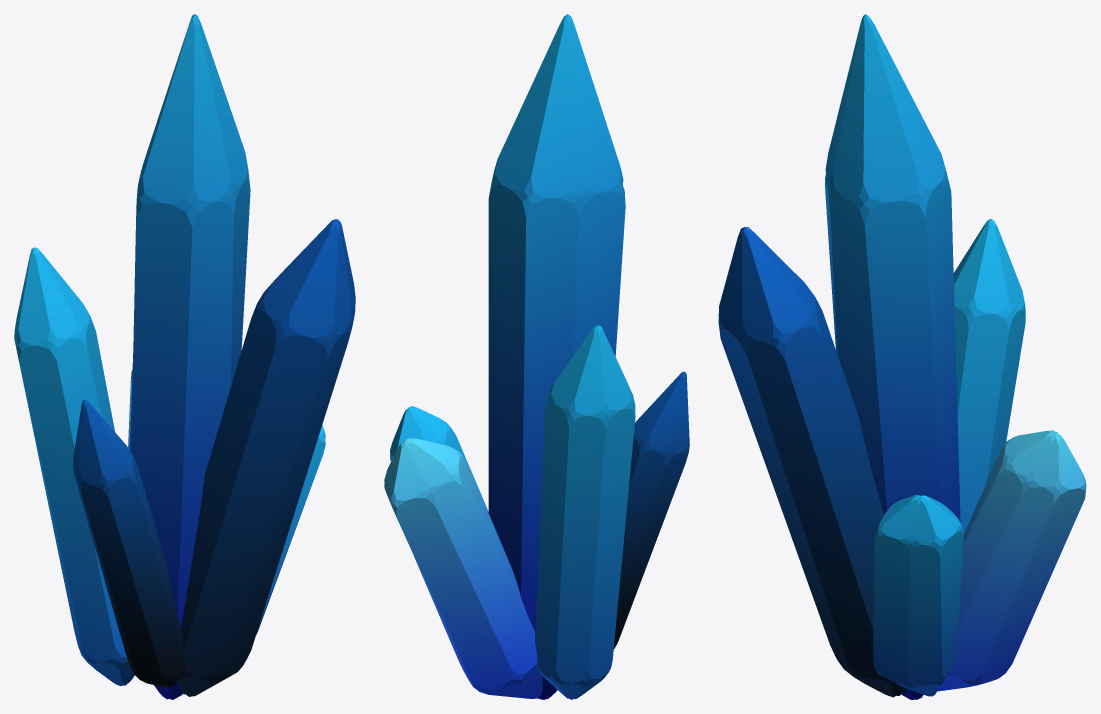
The model's file is crystal_eau.fbx.
3 renders of one model, left to right at view 1: azimuth 30°, elevation 25°; view 2: azimuth 150°, elevation 25°; view 3: azimuth 270°, elevation 25°, orthographic. The views are drawn at different scales.
Parts seen in each view (by area): view 1: Cylinder, Cylinder.005, Cylinder.001, Cylinder.004, Cylinder.003; view 2: Cylinder, Cylinder.001, Cylinder.002, Cylinder.004, Cylinder.003; view 3: Cylinder, Cylinder.005, Cylinder.002, Cylinder.003, Cylinder.001.
Part boxes in pixels (left/top/right/bottom): Cylinder: left=130, top=14, right=250, bottom=699; Cylinder.005: left=177, top=219, right=355, bottom=696; Cylinder.001: left=14, top=247, right=134, bottom=685; Cylinder.004: left=73, top=400, right=186, bottom=687; Cylinder.003: left=256, top=425, right=325, bottom=634; Cylinder: left=488, top=14, right=625, bottom=699; Cylinder.001: left=535, top=325, right=635, bottom=699; Cylinder.002: left=384, top=437, right=543, bottom=698; Cylinder.004: left=613, top=371, right=689, bottom=649; Cylinder.003: left=390, top=406, right=488, bottom=512; Cylinder: left=825, top=14, right=960, bottom=699; Cylinder.005: left=718, top=227, right=905, bottom=697; Cylinder.002: left=937, top=430, right=1086, bottom=691; Cylinder.003: left=873, top=495, right=963, bottom=696; Cylinder.001: left=953, top=219, right=1025, bottom=534.
Bounding box in the file's own units: 37.61 × 92.47 × 44.98.
1 material, 1 textured.
